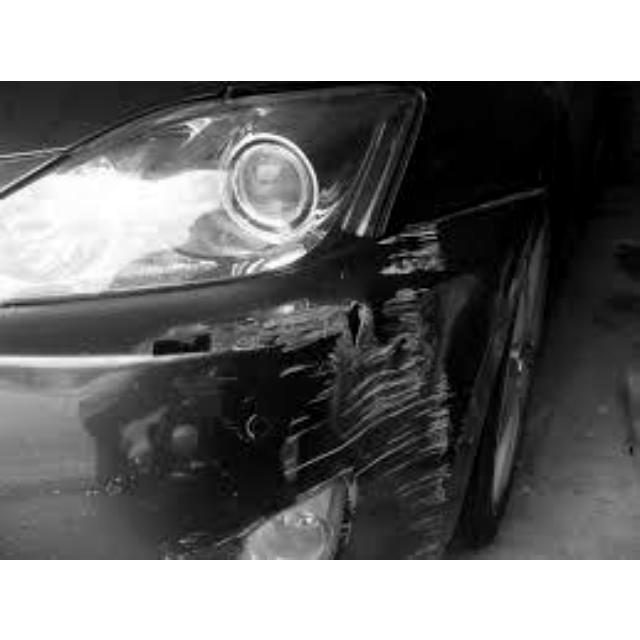front-bumper-dent: (60, 212, 499, 557)
